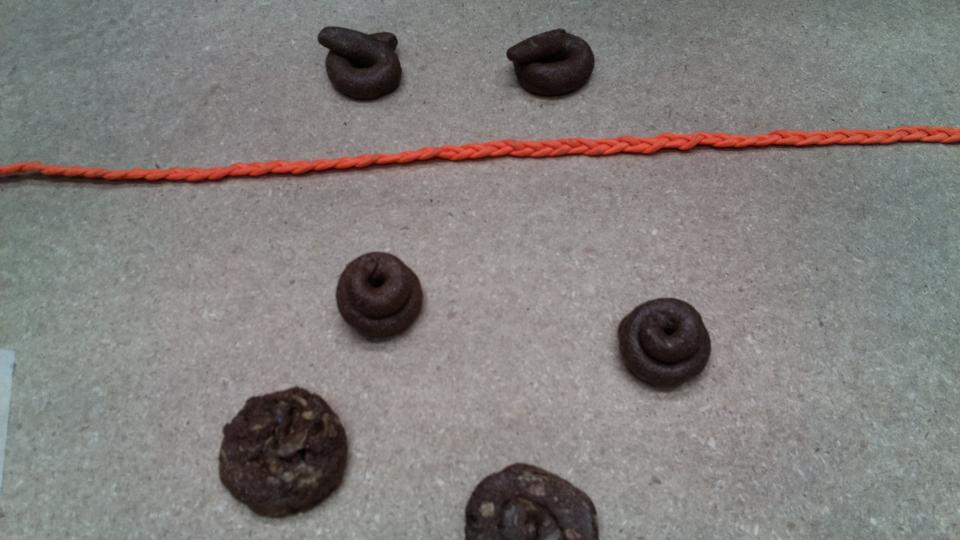poop: (213, 381, 364, 526), (459, 461, 604, 540), (327, 245, 430, 355), (618, 288, 716, 399), (309, 20, 420, 101), (506, 23, 597, 104)
rope: (3, 147, 368, 195), (348, 131, 791, 170), (743, 122, 960, 174)
